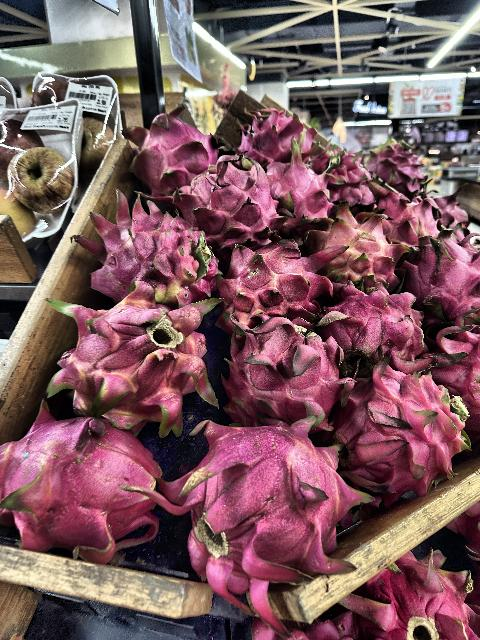buah-naga-belum-matang: (48, 280, 218, 426), (105, 214, 225, 308), (320, 192, 406, 290)
buah-naga-matang: (167, 406, 372, 594), (0, 406, 172, 564), (344, 350, 474, 488), (214, 306, 346, 428), (227, 231, 330, 325), (333, 277, 427, 371), (180, 152, 274, 240), (124, 103, 220, 179), (408, 220, 480, 312), (428, 314, 480, 424), (262, 150, 330, 232), (236, 99, 317, 159), (318, 145, 379, 209), (369, 138, 428, 195)
